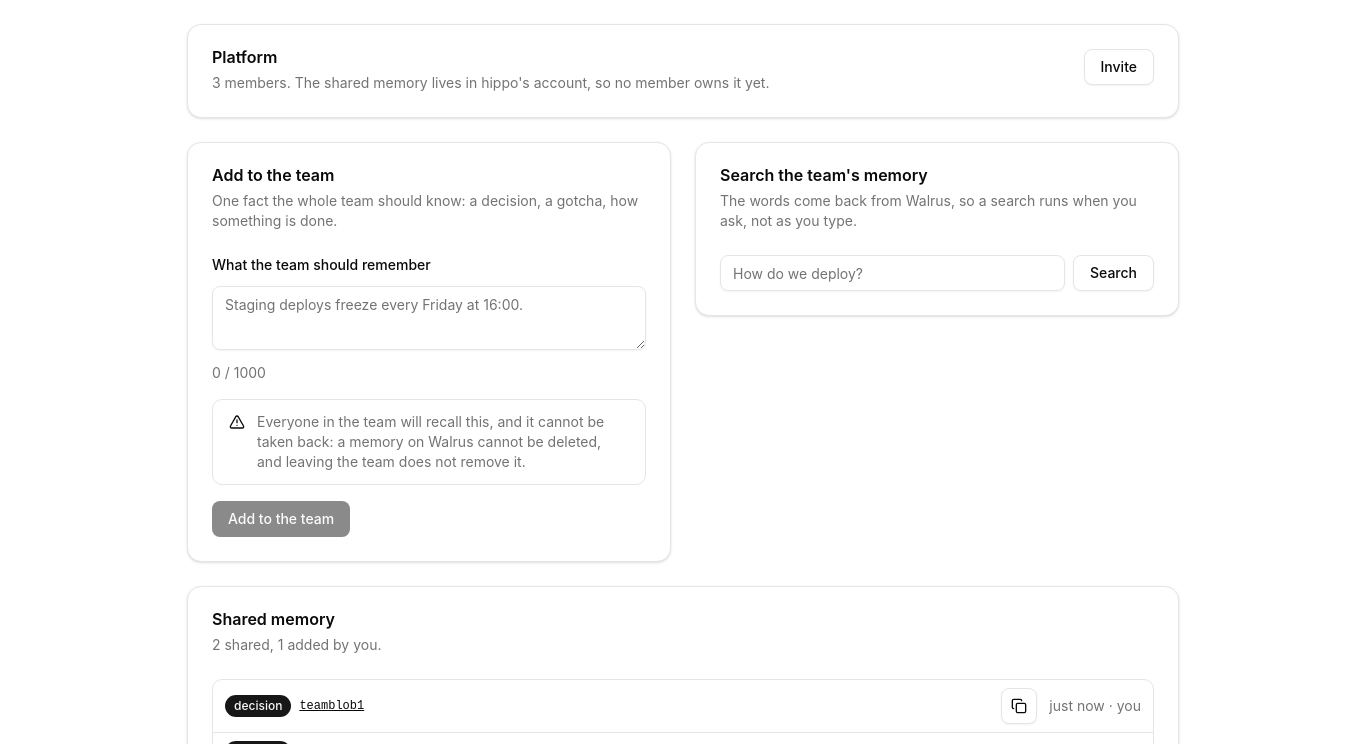
Test: team page › shows the team and what it holds without naming anyone
Expected: the text "Platform" is shown, [212,47,277,67]
Click the button "Invite".
click(1119, 67)  # box [1084,49,1154,85]
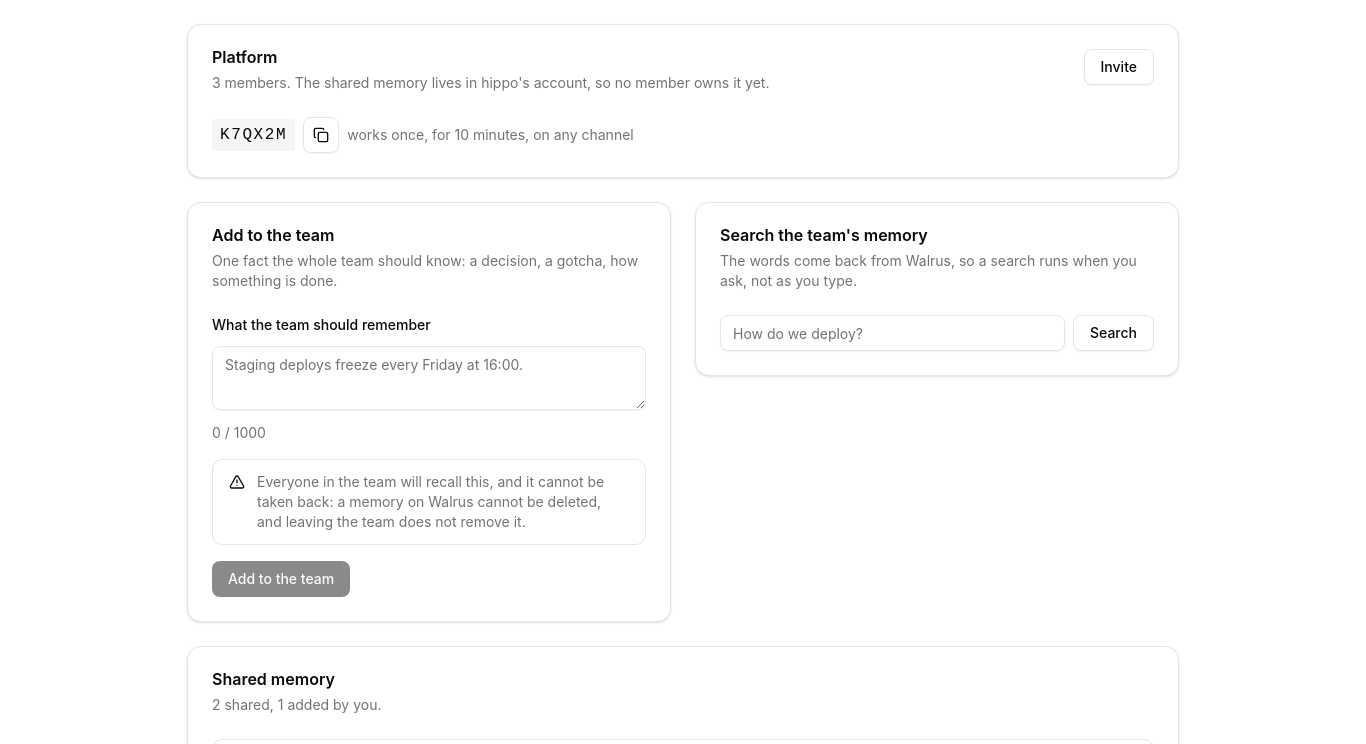
Expected: the text "K7QX2M" is shown, [212,119,295,151]
